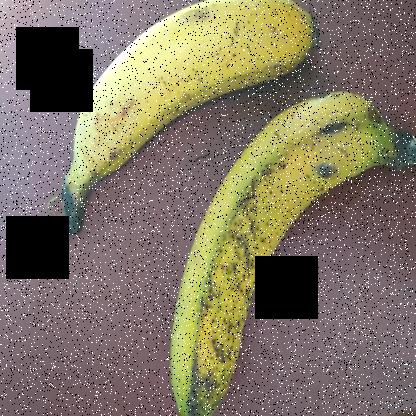ripe: (169, 111, 398, 415), (64, 0, 310, 166)
